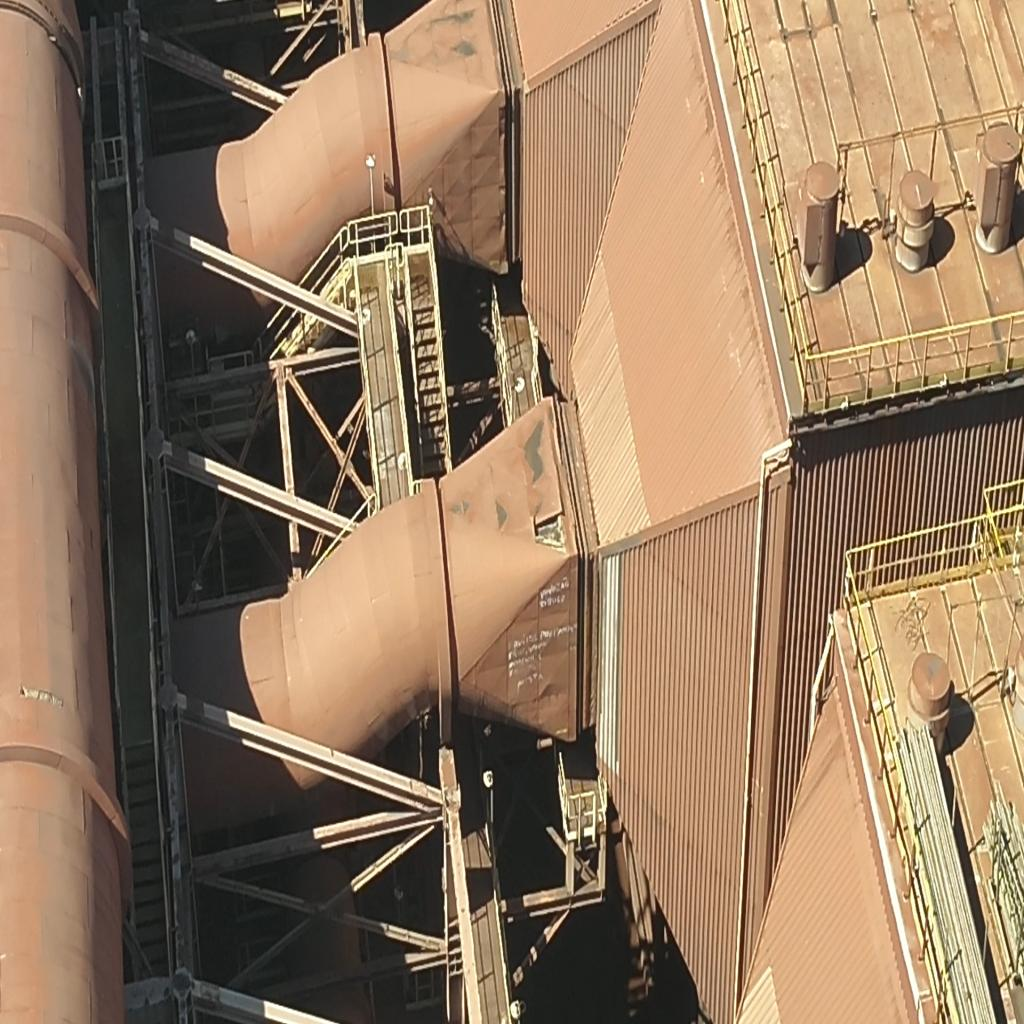Failures: (532, 504, 567, 552)
